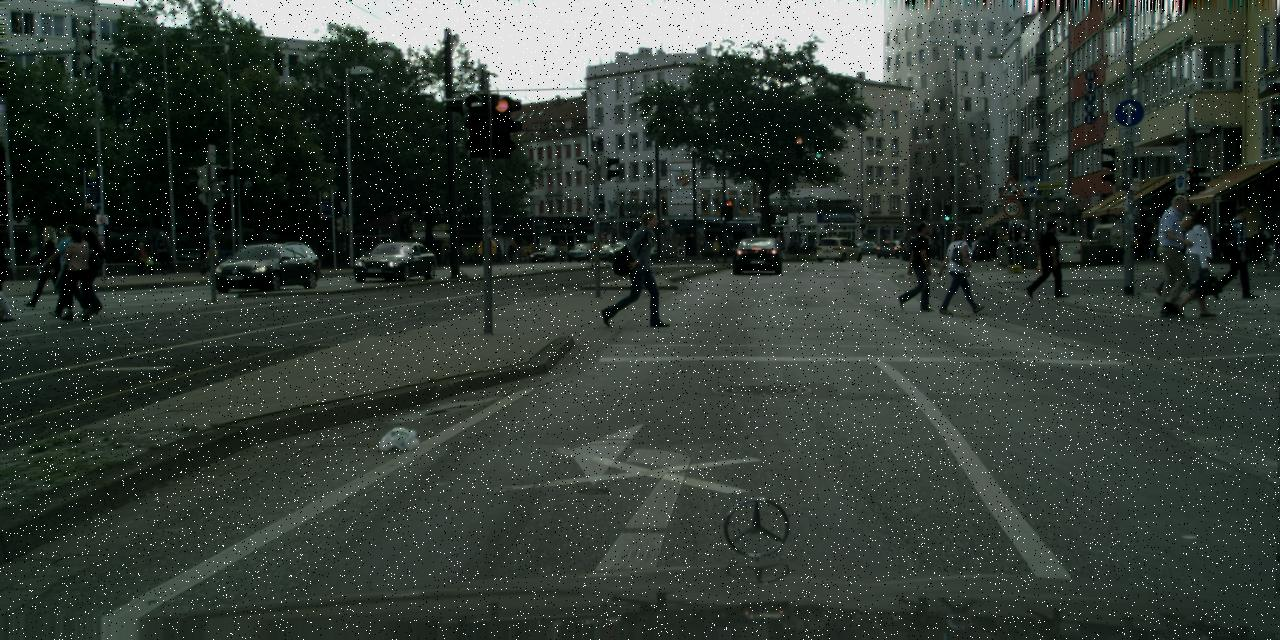ped: (1149, 193, 1199, 316), (618, 210, 664, 324), (1176, 208, 1218, 314), (1217, 205, 1255, 298), (51, 223, 89, 315), (57, 226, 94, 320), (900, 220, 936, 308), (943, 226, 978, 312), (72, 229, 106, 314), (32, 226, 64, 306), (1168, 216, 1200, 296), (1033, 222, 1064, 296), (154, 229, 172, 274), (200, 226, 217, 268), (1148, 220, 1164, 259), (1009, 222, 1021, 254), (977, 229, 989, 260), (1000, 230, 1012, 260), (926, 234, 937, 262), (709, 234, 720, 262), (988, 232, 998, 257), (492, 240, 502, 264), (508, 239, 518, 263), (970, 231, 980, 248), (994, 232, 1005, 242), (987, 232, 993, 239), (986, 254, 990, 258), (997, 248, 998, 256)
